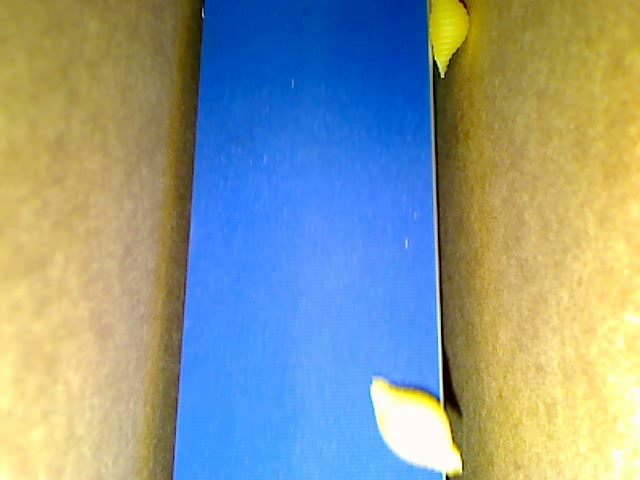shell: (371, 374, 460, 477), (426, 1, 469, 80)
